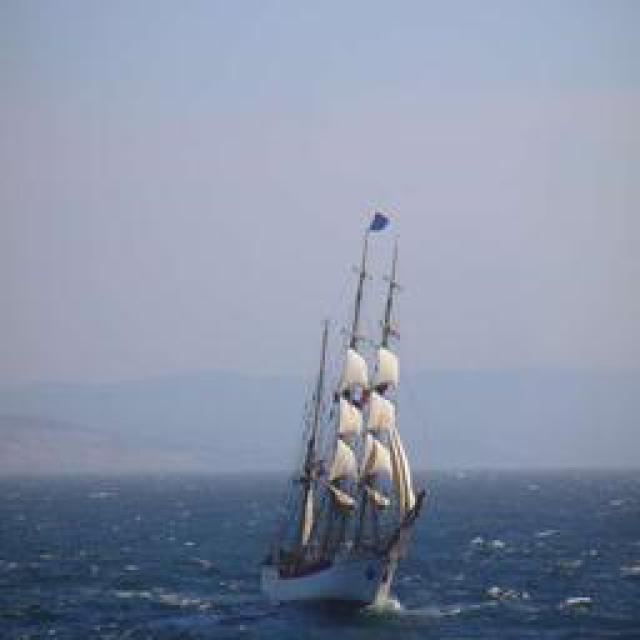Ship: (271, 214, 421, 614)
